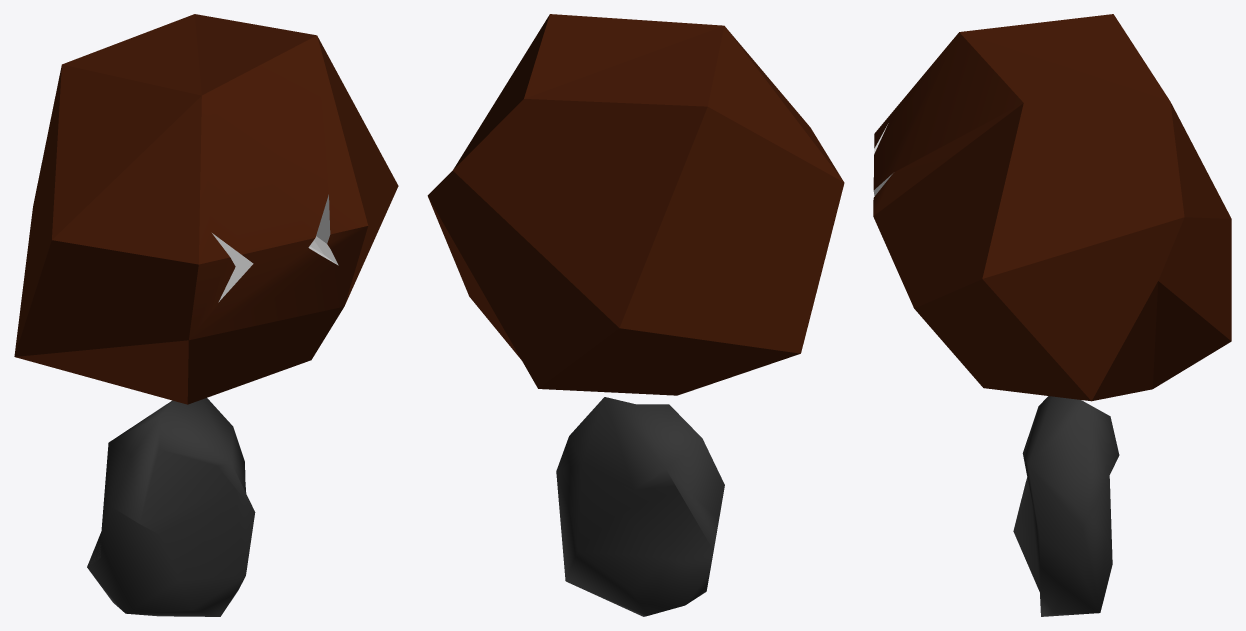
File: miniboss 3.fbx
3 renders of one model, left to right at view 1: azimuth 30°, elevation 25°; view 2: azimuth 150°, elevation 25°; view 3: azimuth 270°, elevation 25°, orthographic. The views are drawn at different scales.
Visible parts, largest first — view 1: pSphere8, pCube7; view 2: pSphere8, pCube7; view 3: pSphere8, pCube7.
Part boxes in pixels (left/top/right/bottom): pSphere8: left=14, top=14, right=398, bottom=404; pCube7: left=87, top=398, right=255, bottom=616; pSphere8: left=427, top=14, right=844, bottom=395; pCube7: left=556, top=397, right=724, bottom=616; pSphere8: left=873, top=14, right=1231, bottom=401; pCube7: left=1013, top=396, right=1119, bottom=616.
Bounding box in the file's own units: 0.6461 × 1.02 × 0.5911.
